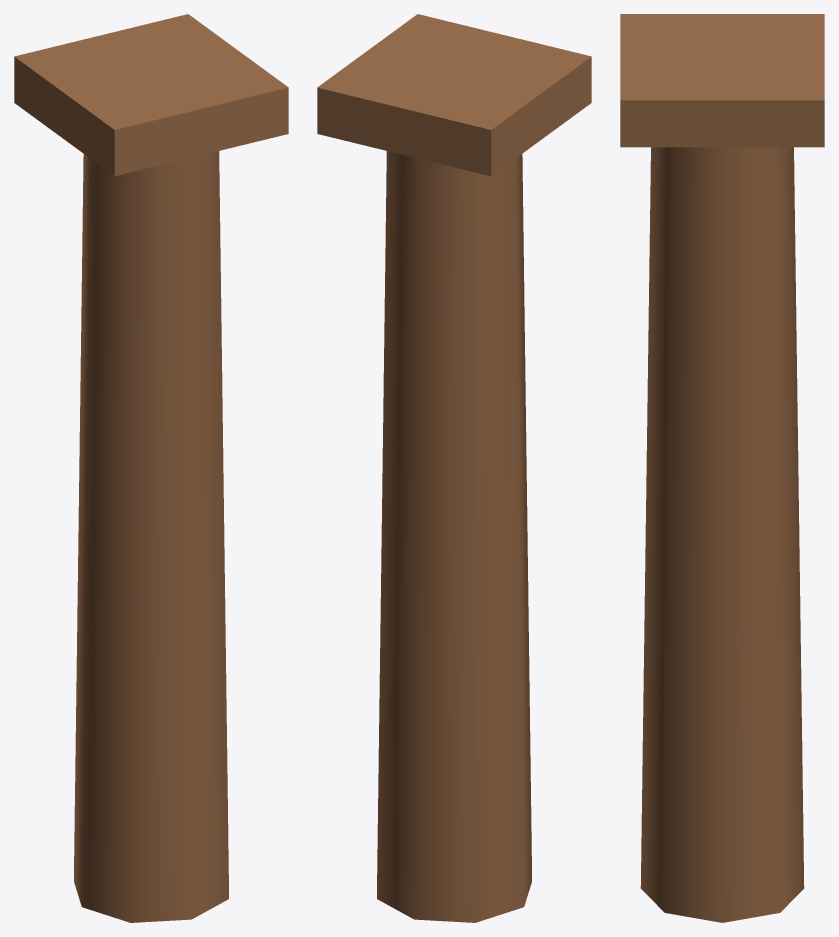
Rendered from pillar.glb.
3 renders of one model, left to right at view 1: azimuth 30°, elevation 25°; view 2: azimuth 150°, elevation 25°; view 3: azimuth 270°, elevation 25°, orthographic.
Size of the model in its own units: 0.55 by 2.47 by 0.55.
